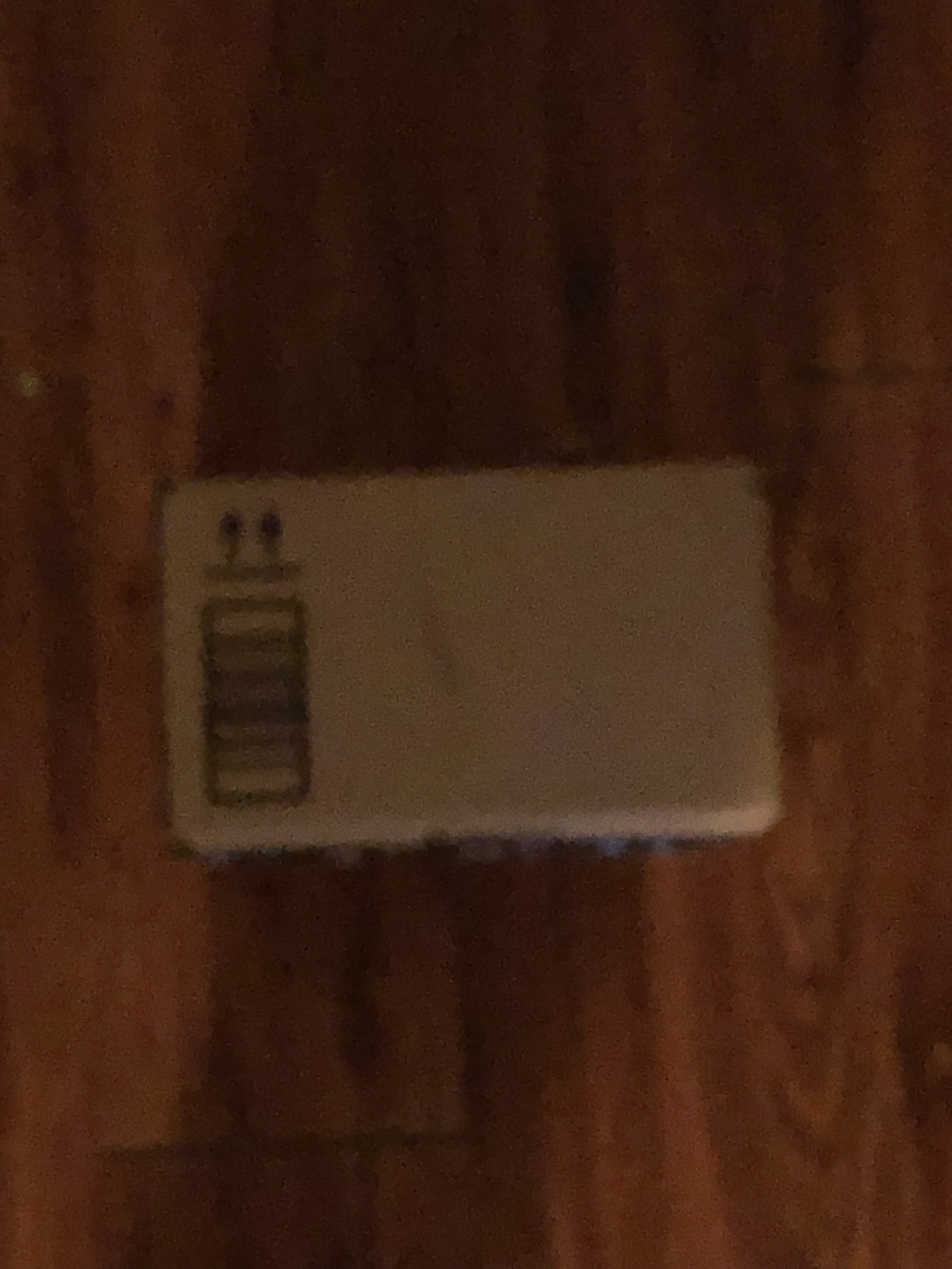package: (158, 457, 793, 882)
